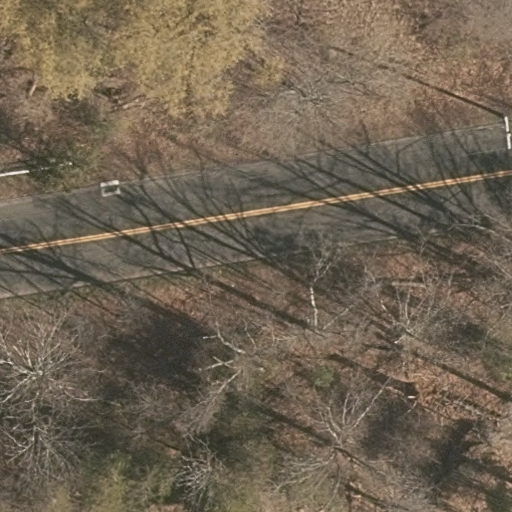DT: (500, 113, 512, 151)
